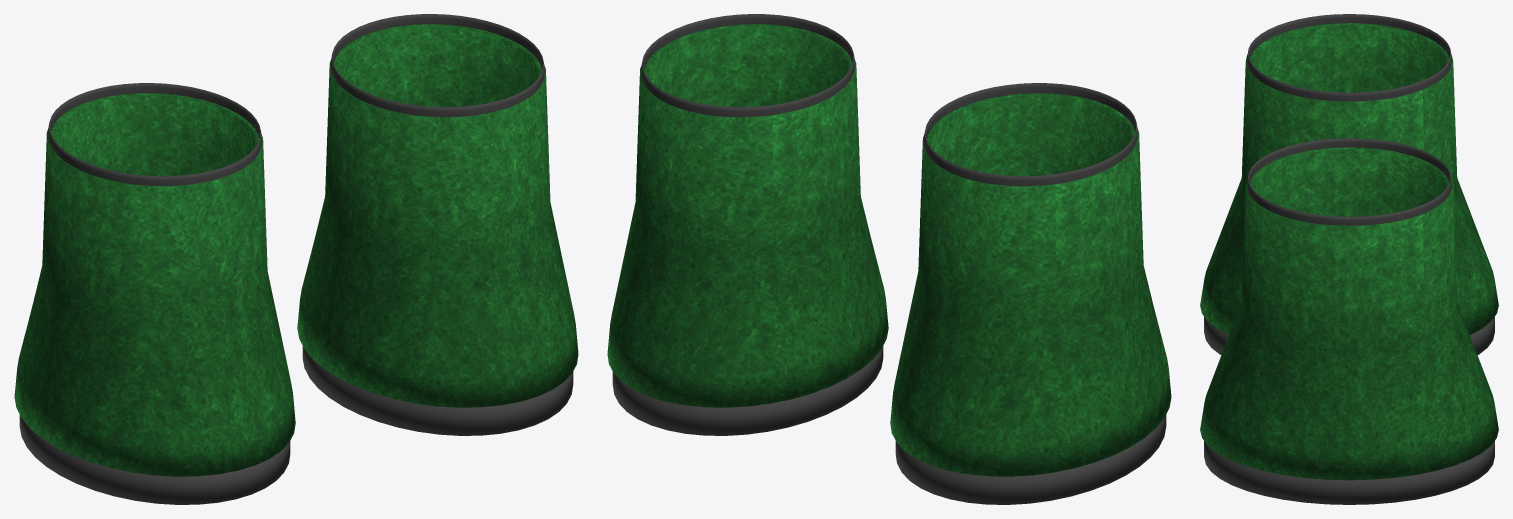
Rendered from rainboots1.fbx.
The picture shows the model from 3 angles, left to right: view 1: azimuth 30°, elevation 25°; view 2: azimuth 150°, elevation 25°; view 3: azimuth 270°, elevation 25°; orthographic projection. The views are drawn at different scales.
Visible parts, largest first — view 1: rainboots1; view 2: rainboots1; view 3: rainboots1.
Part boxes in pixels (x1,y1,x2,y2): rainboots1: [14, 14, 578, 504]; rainboots1: [607, 14, 1171, 504]; rainboots1: [1200, 14, 1498, 504].
Bounding box in the file's own units: 0.638 × 0.3714 × 0.3598.
Materials: 2 (1 with a texture image).
